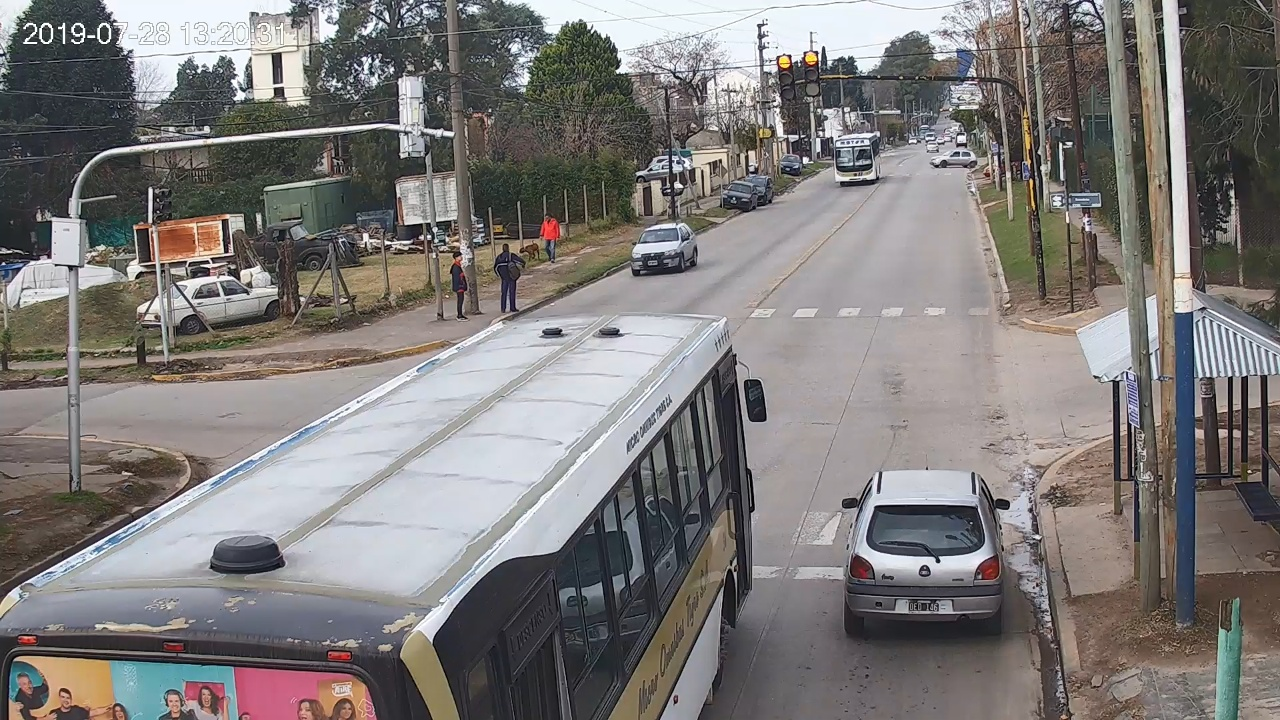bus: (2, 316, 767, 720)
car: (842, 469, 1010, 634)
front car: (631, 223, 698, 276)
traffic light: (777, 53, 796, 99), (803, 51, 821, 96)
